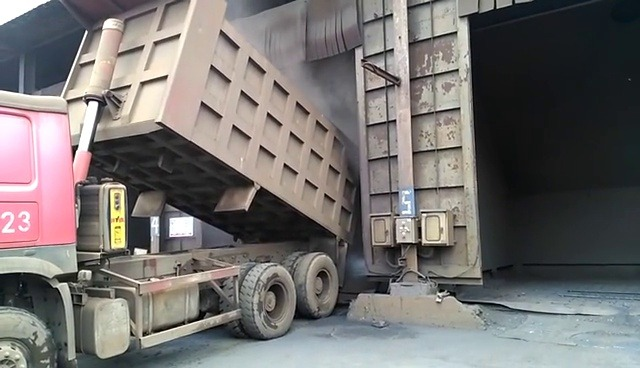dust: (223, 9, 364, 142)
truck: (0, 0, 360, 366)
